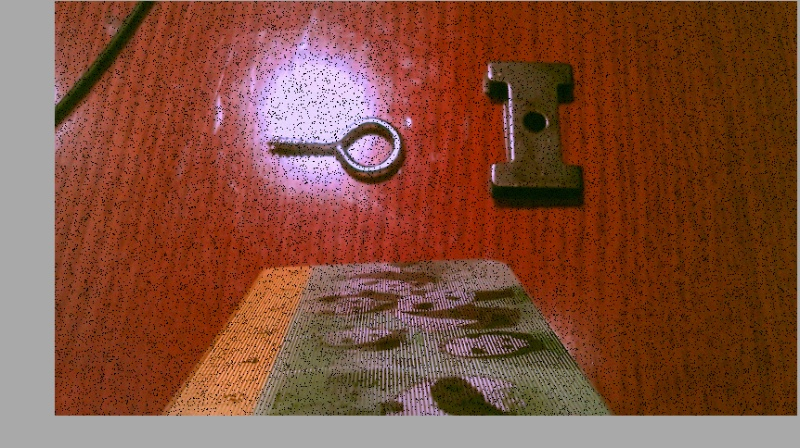O001: (262, 115, 409, 181)
O002: (483, 56, 588, 209)
